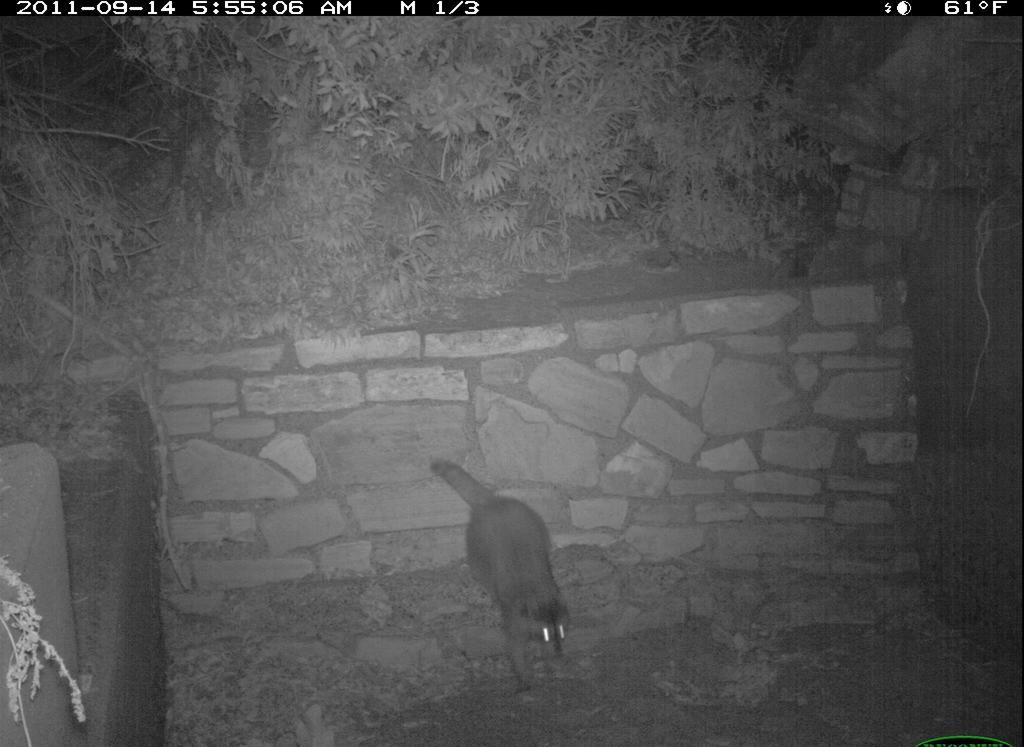raccoon: (417, 443, 594, 720)
